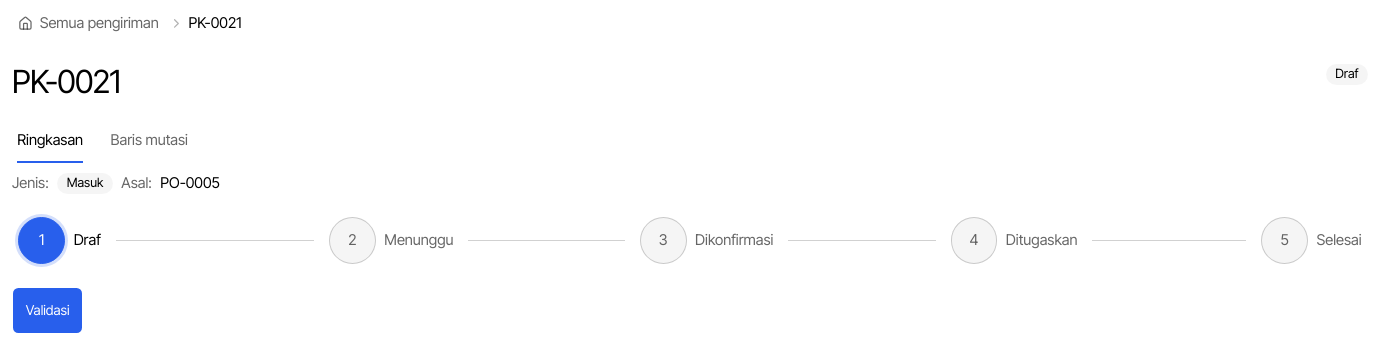
Test: ShipmentDetail › switches to the moves tab on selection
Click the tab "Baris mutasi" at (149, 141), box [110,117,189,164]
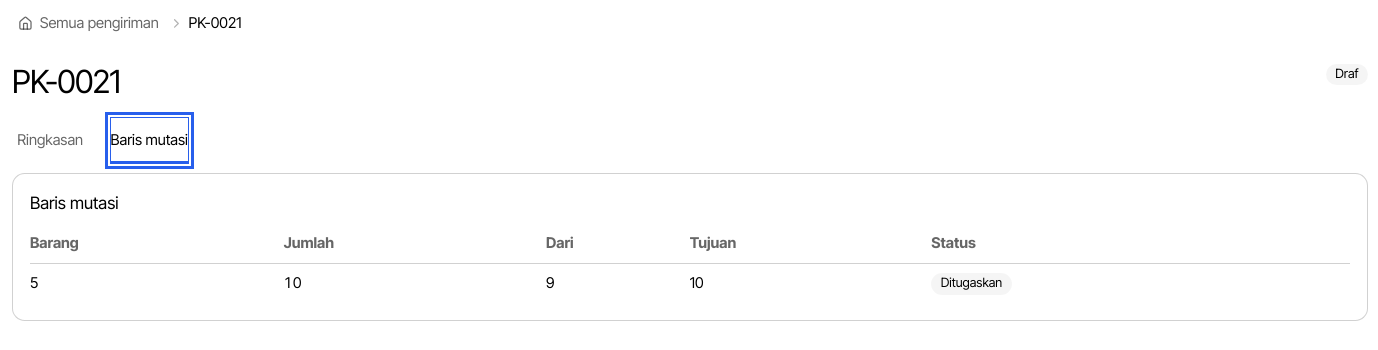
expect the button "Ditugaskan" is shown: met, box [931,273,1012,295]
